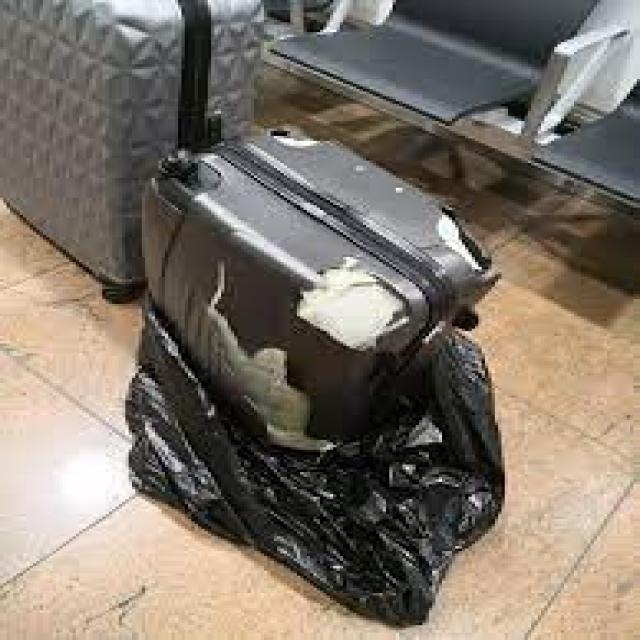Damage-bag: (207, 260, 332, 451), (295, 256, 412, 351), (436, 209, 491, 271), (269, 127, 320, 150)
